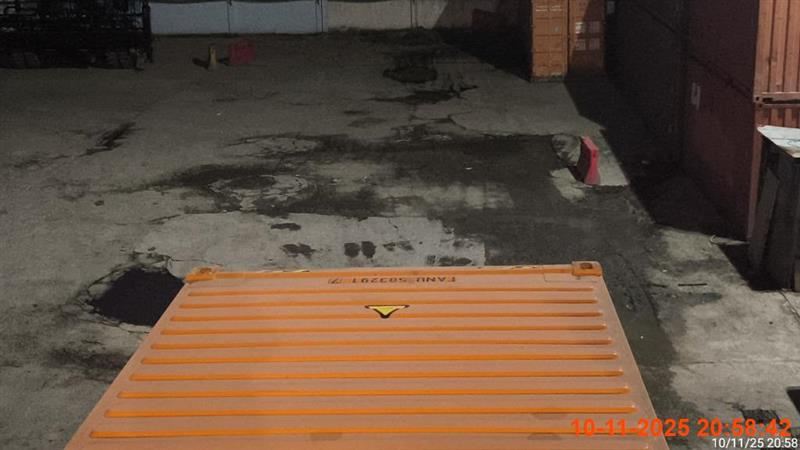broken: (66, 260, 669, 441)
